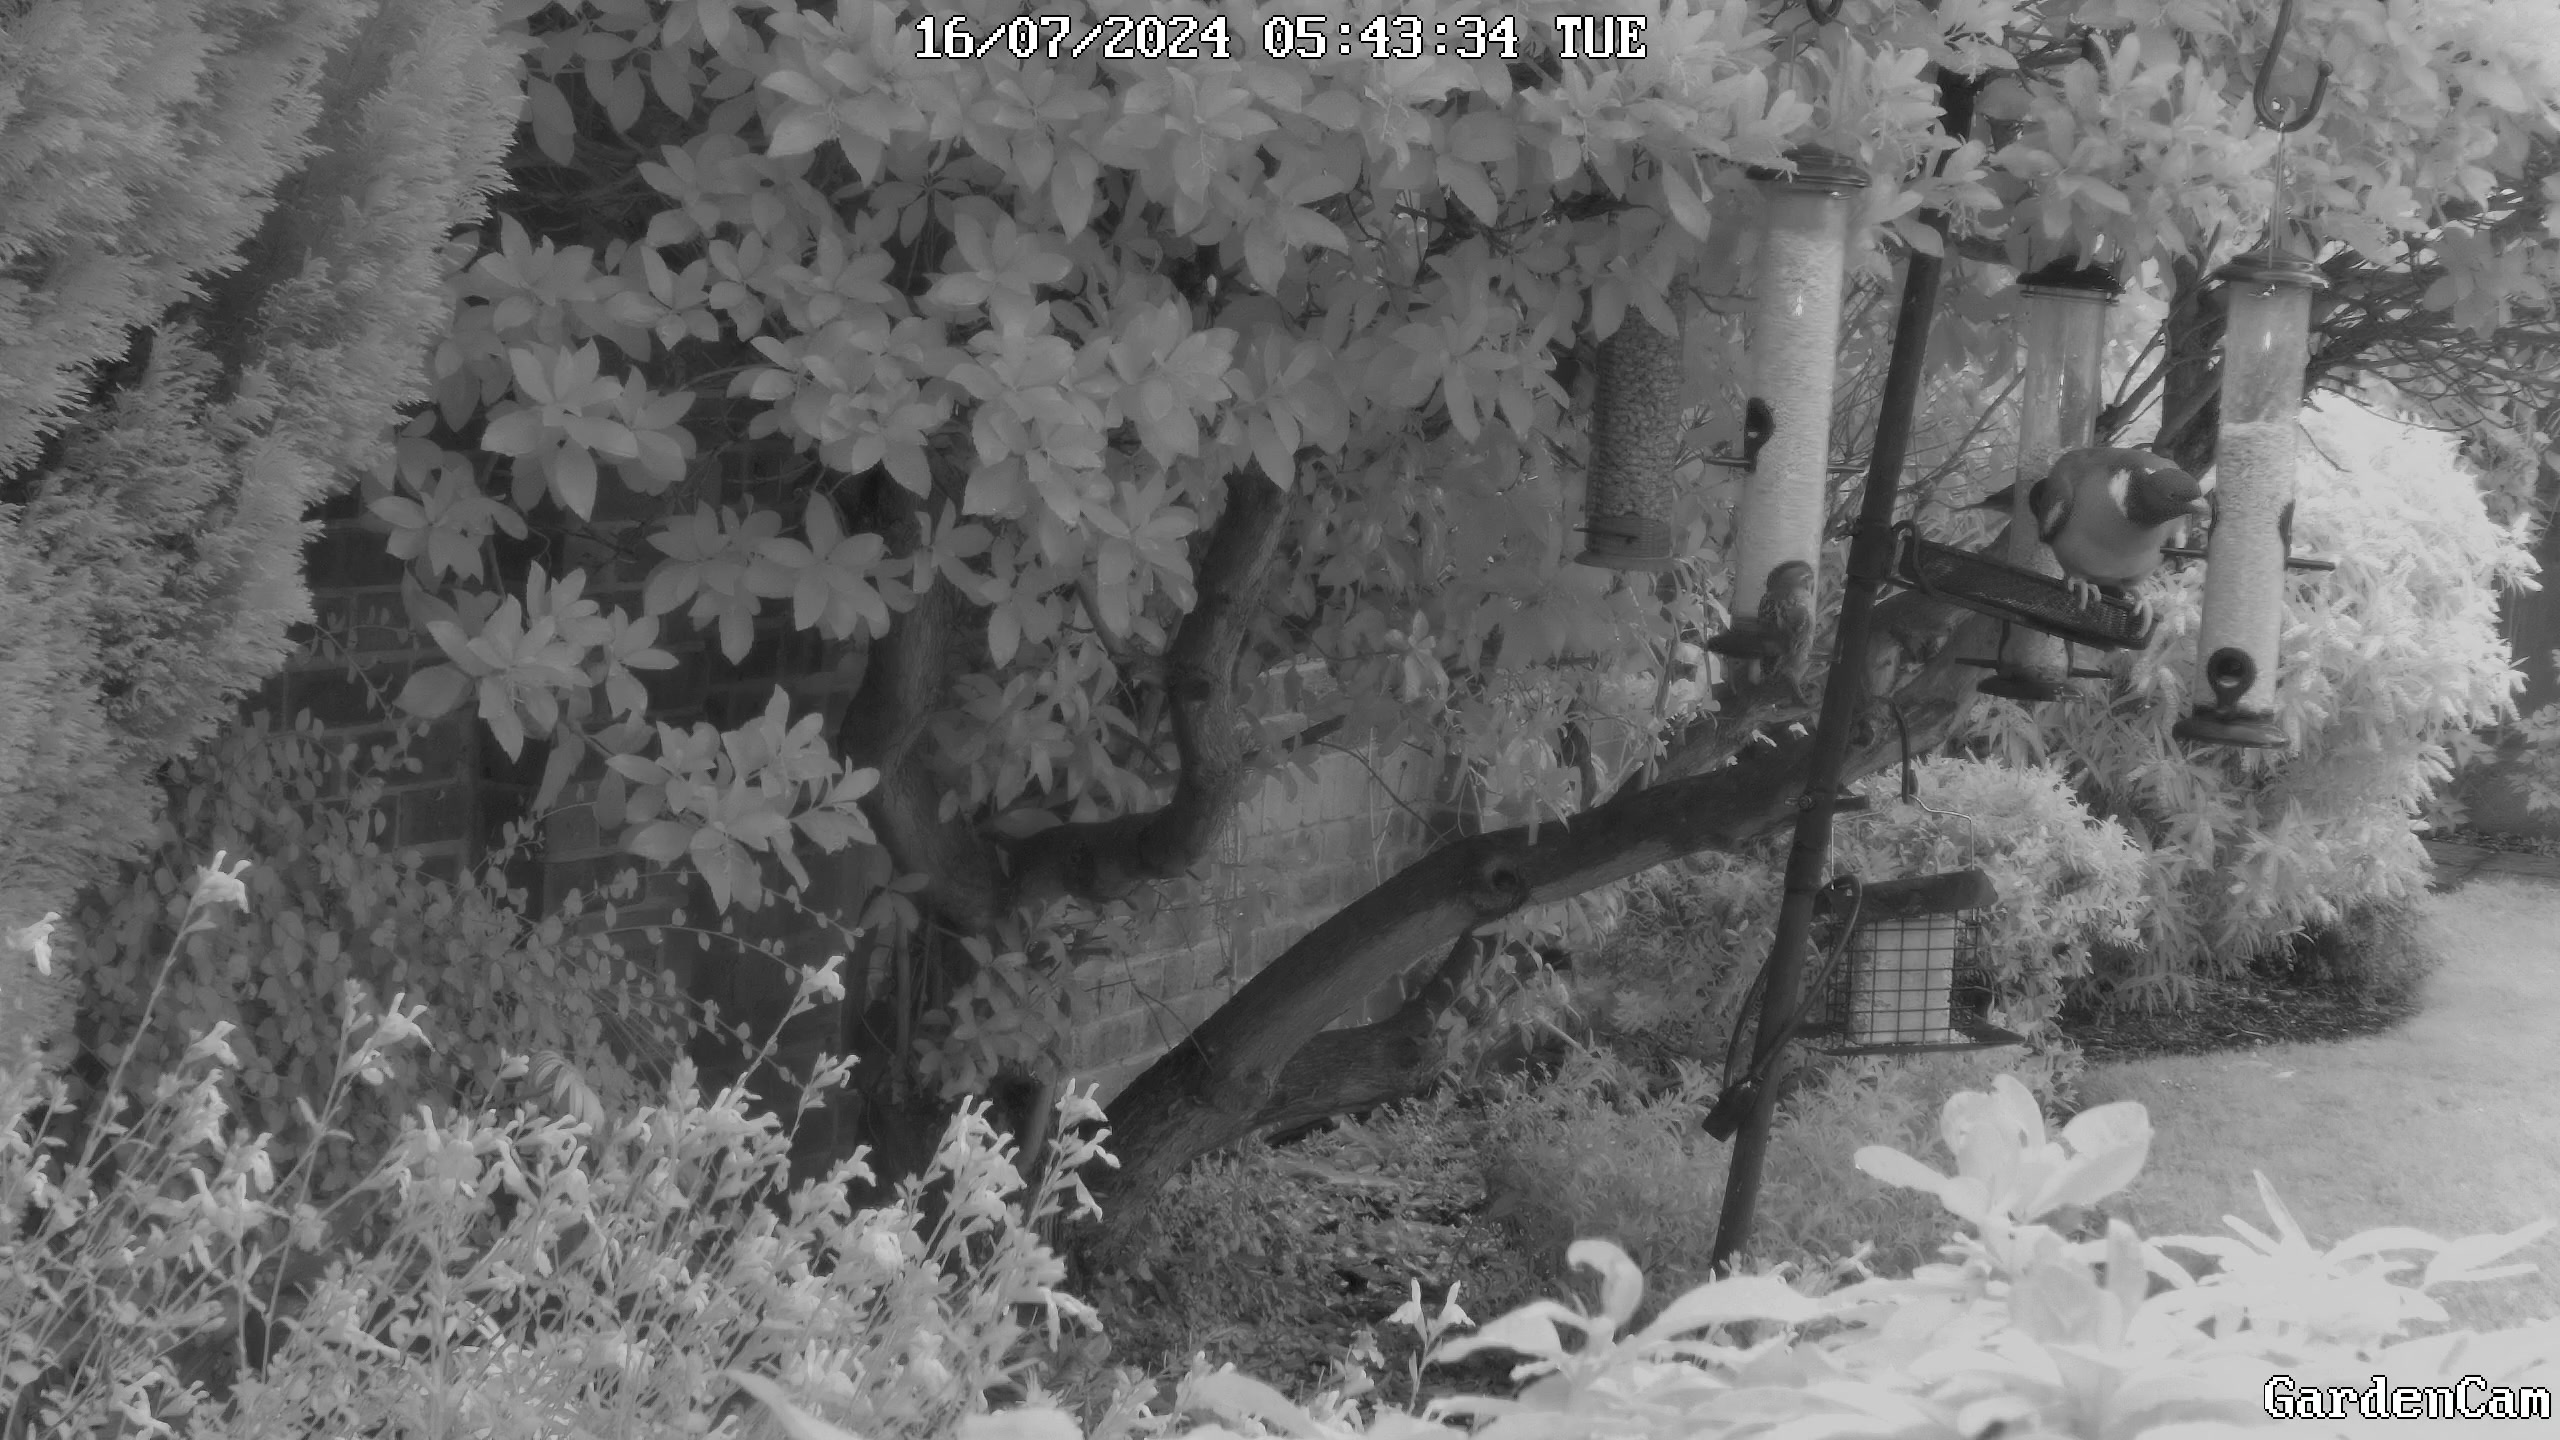House_Sparrow: (1709, 549, 1834, 726)
Wood_Pigeon: (1962, 436, 2236, 642)
